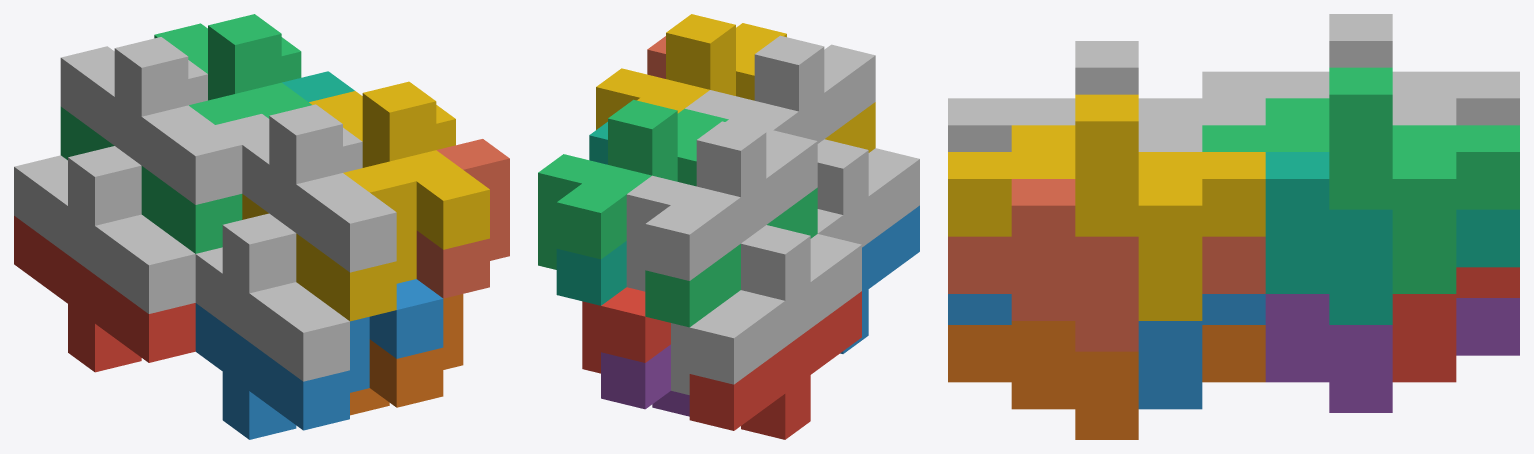
Rendered from tiling.obj.
3 renders of one model, left to right at view 1: azimuth 30°, elevation 25°; view 2: azimuth 150°, elevation 25°; view 3: azimuth 270°, elevation 25°, orthographic. The views are drawn at different scales.
Parts seen in each view (by area): view 1: copy_2_domain_3, copy_2_domain_1, copy_2_domain_4, copy_2_domain_2, copy_2_domain_8, copy_1_domain_2, copy_1_domain_1, copy_1_domain_4, copy_2_domain_7, copy_1_domain_3, copy_1_domain_8, copy_1_domain_6 (+2 smaller); view 2: copy_2_domain_3, copy_2_domain_1, copy_2_domain_7, copy_2_domain_4, copy_1_domain_1, copy_2_domain_8, copy_2_domain_2, copy_1_domain_3, copy_2_domain_5, copy_1_domain_7, copy_1_domain_5, copy_1_domain_2 (+2 smaller); view 3: copy_2_domain_8, copy_2_domain_7, copy_1_domain_8, copy_1_domain_7, copy_1_domain_6, copy_1_domain_5, copy_2_domain_3, copy_2_domain_4, copy_2_domain_6, copy_2_domain_5, copy_1_domain_3, copy_1_domain_4.
Boxes of the visible parts, box(x1,y1,x2,y2) form: copy_2_domain_3: box(60, 37, 242, 204); copy_2_domain_1: box(14, 146, 195, 313); copy_2_domain_4: box(215, 104, 396, 272); copy_2_domain_2: box(195, 213, 349, 381); copy_2_domain_8: box(309, 81, 489, 249); copy_1_domain_2: box(195, 303, 369, 439); copy_1_domain_1: box(14, 216, 195, 372); copy_1_domain_4: box(242, 161, 416, 321); copy_2_domain_7: box(154, 14, 311, 118); copy_1_domain_3: box(60, 94, 261, 253); copy_1_domain_8: box(416, 139, 509, 298); copy_1_domain_6: box(350, 294, 463, 415); copy_2_domain_3: box(626, 121, 817, 291); copy_2_domain_1: box(671, 225, 861, 394); copy_2_domain_7: box(538, 99, 728, 269); copy_2_domain_4: box(685, 35, 875, 143); copy_1_domain_1: box(689, 291, 861, 439); copy_2_domain_8: box(596, 14, 786, 129); copy_2_domain_2: box(817, 139, 919, 247); copy_1_domain_3: box(645, 143, 817, 327); copy_2_domain_5: box(582, 287, 670, 373); copy_1_domain_7: box(556, 122, 626, 305); copy_1_domain_5: box(601, 344, 689, 416); copy_1_domain_2: box(840, 205, 919, 353); copy_2_domain_8: box(948, 94, 1265, 320); copy_2_domain_7: box(1202, 67, 1519, 293); copy_1_domain_8: box(948, 179, 1265, 351); copy_1_domain_7: box(1265, 152, 1519, 324); copy_1_domain_6: box(948, 321, 1265, 439); copy_1_domain_5: box(1265, 294, 1519, 412); copy_2_domain_3: box(1202, 14, 1519, 125); copy_2_domain_4: box(948, 41, 1265, 151); copy_2_domain_6: box(948, 294, 1265, 409); copy_2_domain_5: box(1392, 267, 1519, 382); copy_1_domain_3: box(1265, 98, 1329, 125); copy_1_domain_4: box(1011, 125, 1075, 151).
Bounding box in the file's own units: 6 × 6 × 9.
